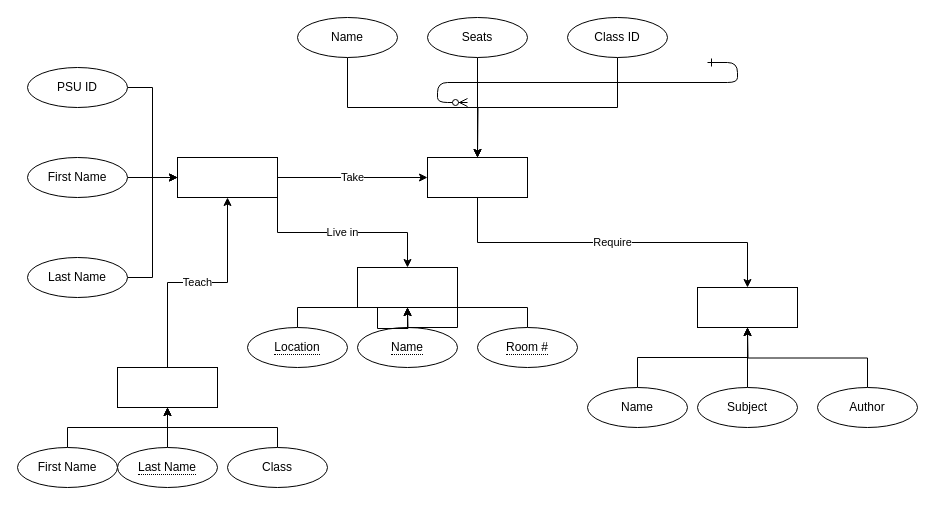
Image size: 935x505. Some labels were removed from this diagram. The centre of each missing label's shape, as x and y in pixels:
"Classes" belongs at point (477, 177).
"Professors" belongs at point (167, 387).
"Residences" belongs at point (407, 287).
"Students" belongs at point (227, 177).
"Textbooks" belongs at point (747, 307).
